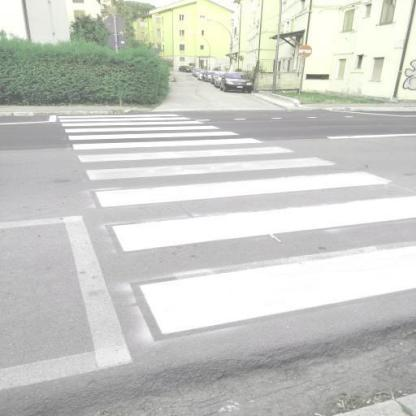crosswalk: (65, 154, 398, 212)
